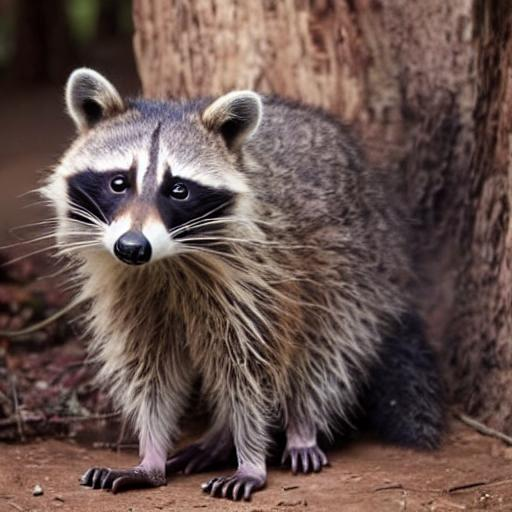raccoon: (22, 62, 457, 458)
